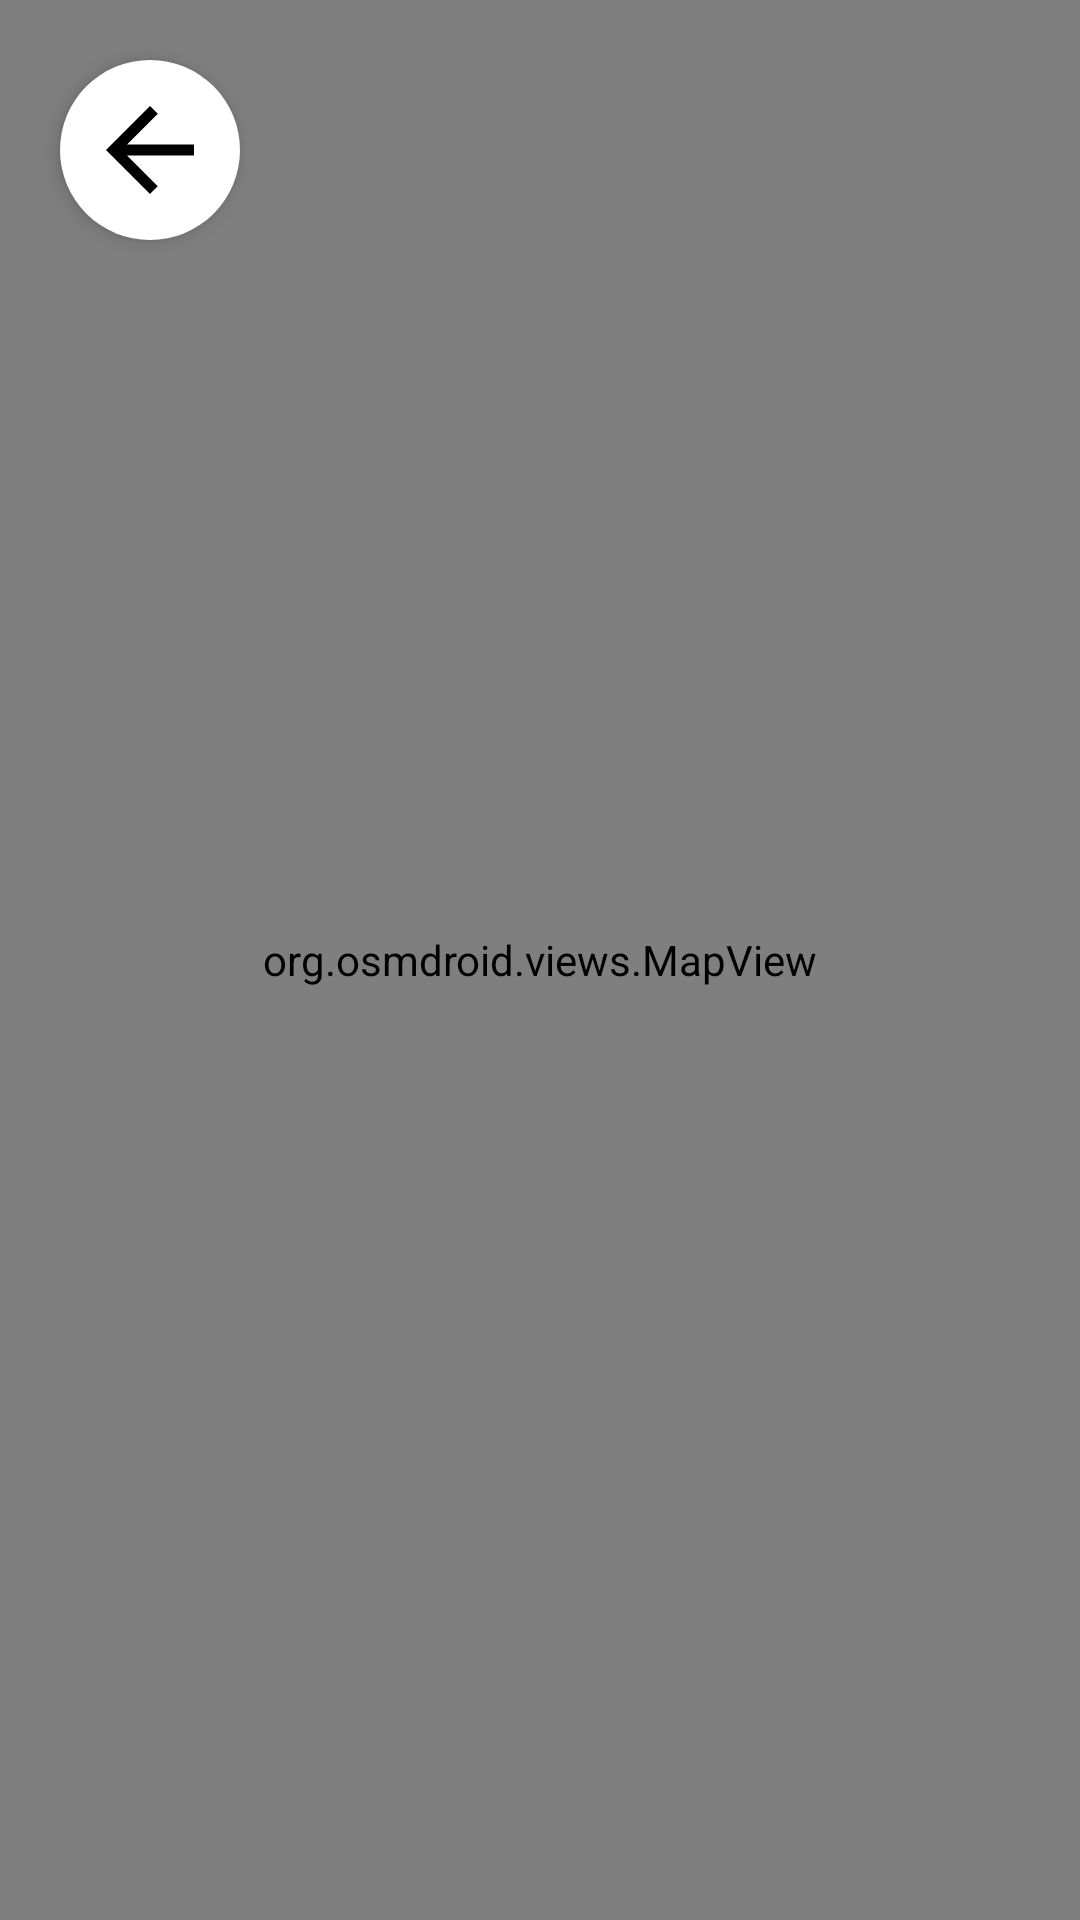

Screen size 1080px x 1920px. Icon name, then its center in pixels as [x,y]:
goback: [150,150]
